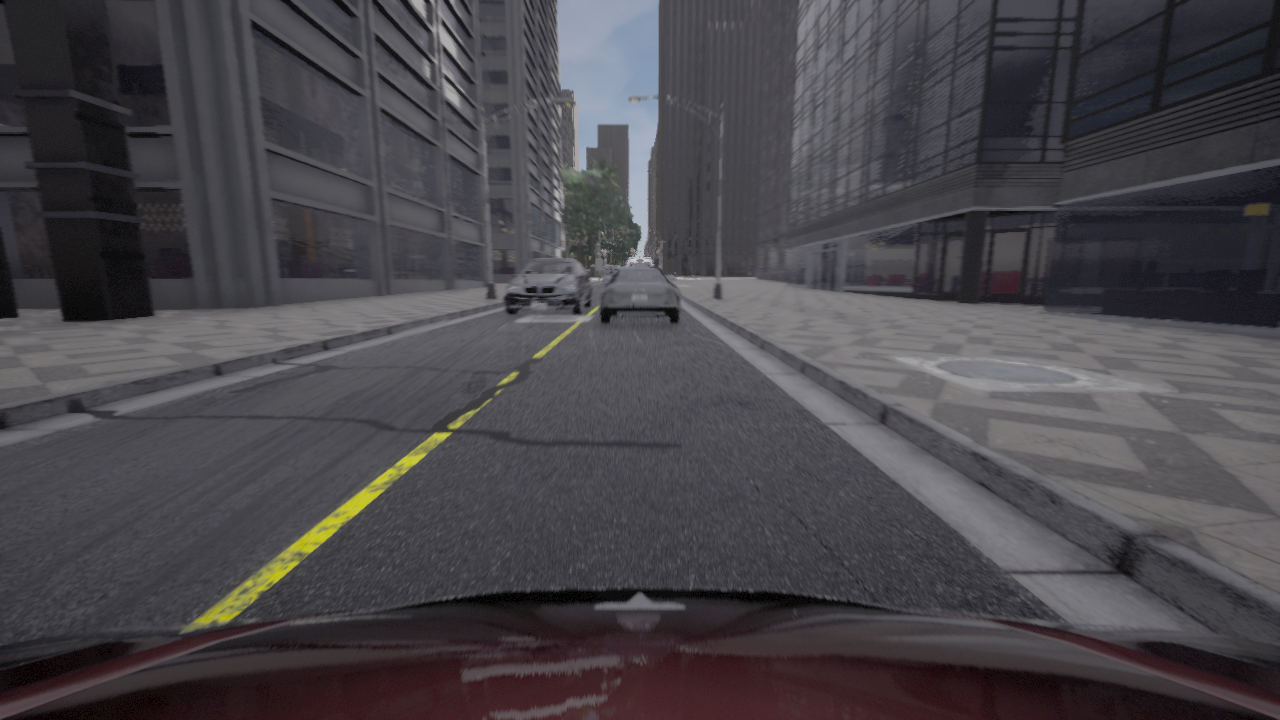cyclist: (0, 588, 1279, 719), (504, 259, 592, 314), (599, 267, 680, 324), (602, 265, 619, 283), (626, 258, 653, 266)
